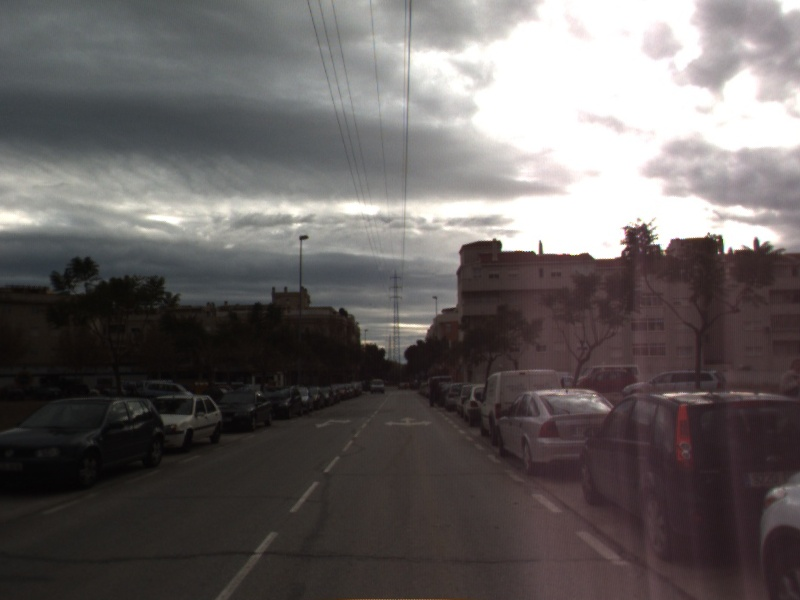STRAIGHT_LEFT_RIGHT: (382, 415, 434, 428)
